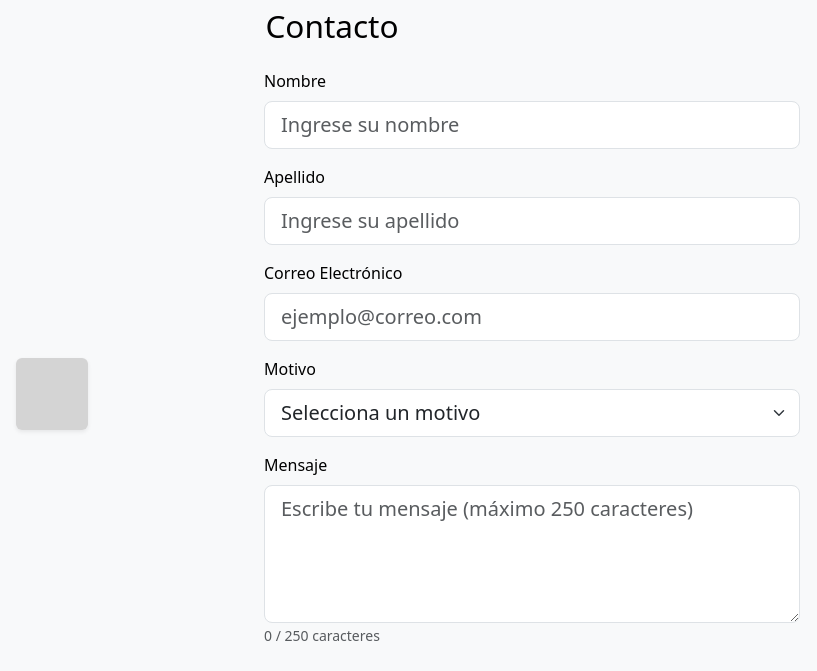
Test: Componente Contacto › muestra contador de caracteres del mensaje correctamente
In the text box labelled "Mensaje": (532, 554) [264, 485, 800, 623], type "Hola"
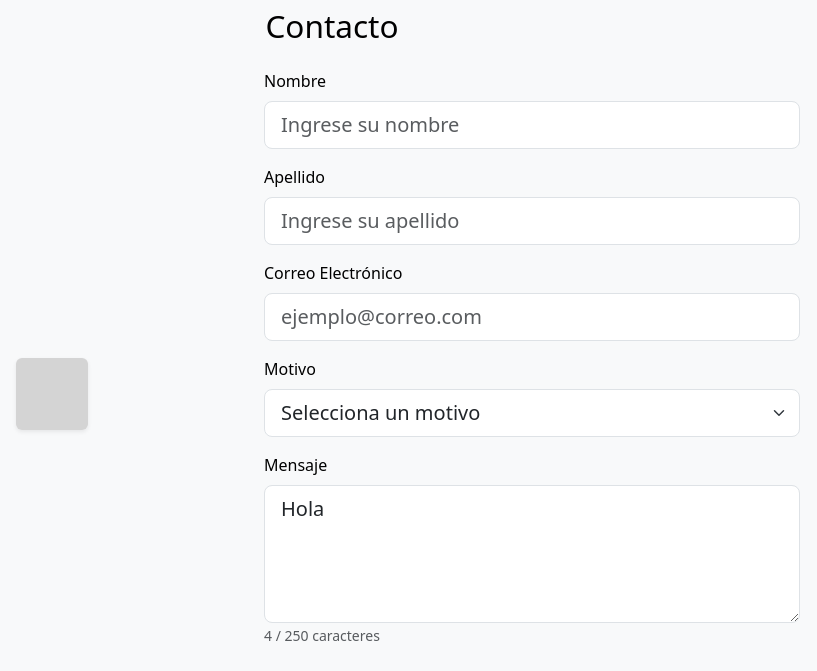
Expected: the text "4 / 250 caracteres" is shown, [264, 626, 380, 645]
